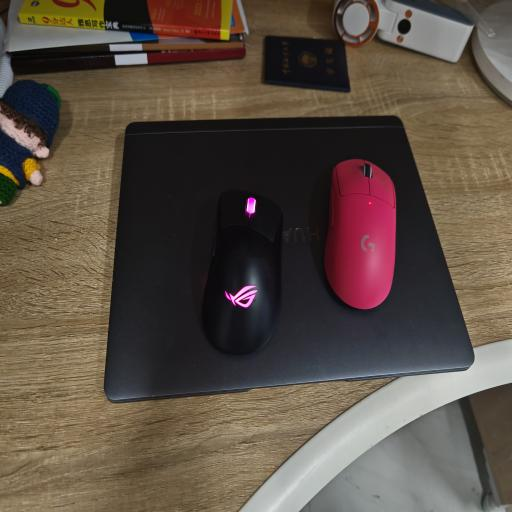laptop: (104, 114, 474, 404)
mouse: (202, 190, 282, 354), (324, 159, 396, 309)
